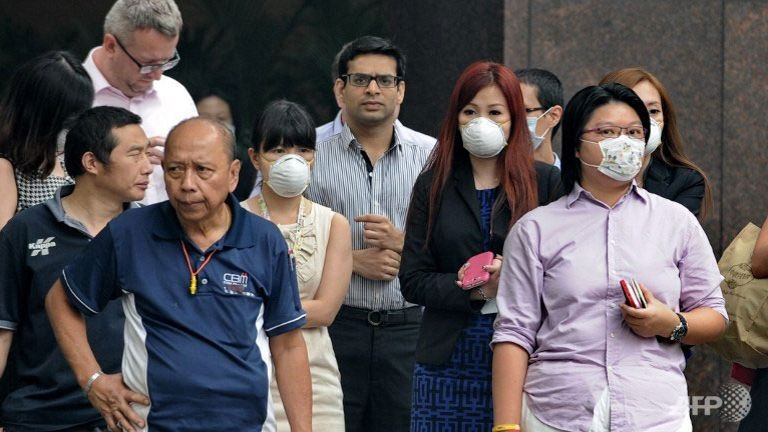Mask: (595, 120, 652, 177)
